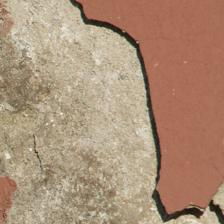Crack: (38, 3, 173, 220)
